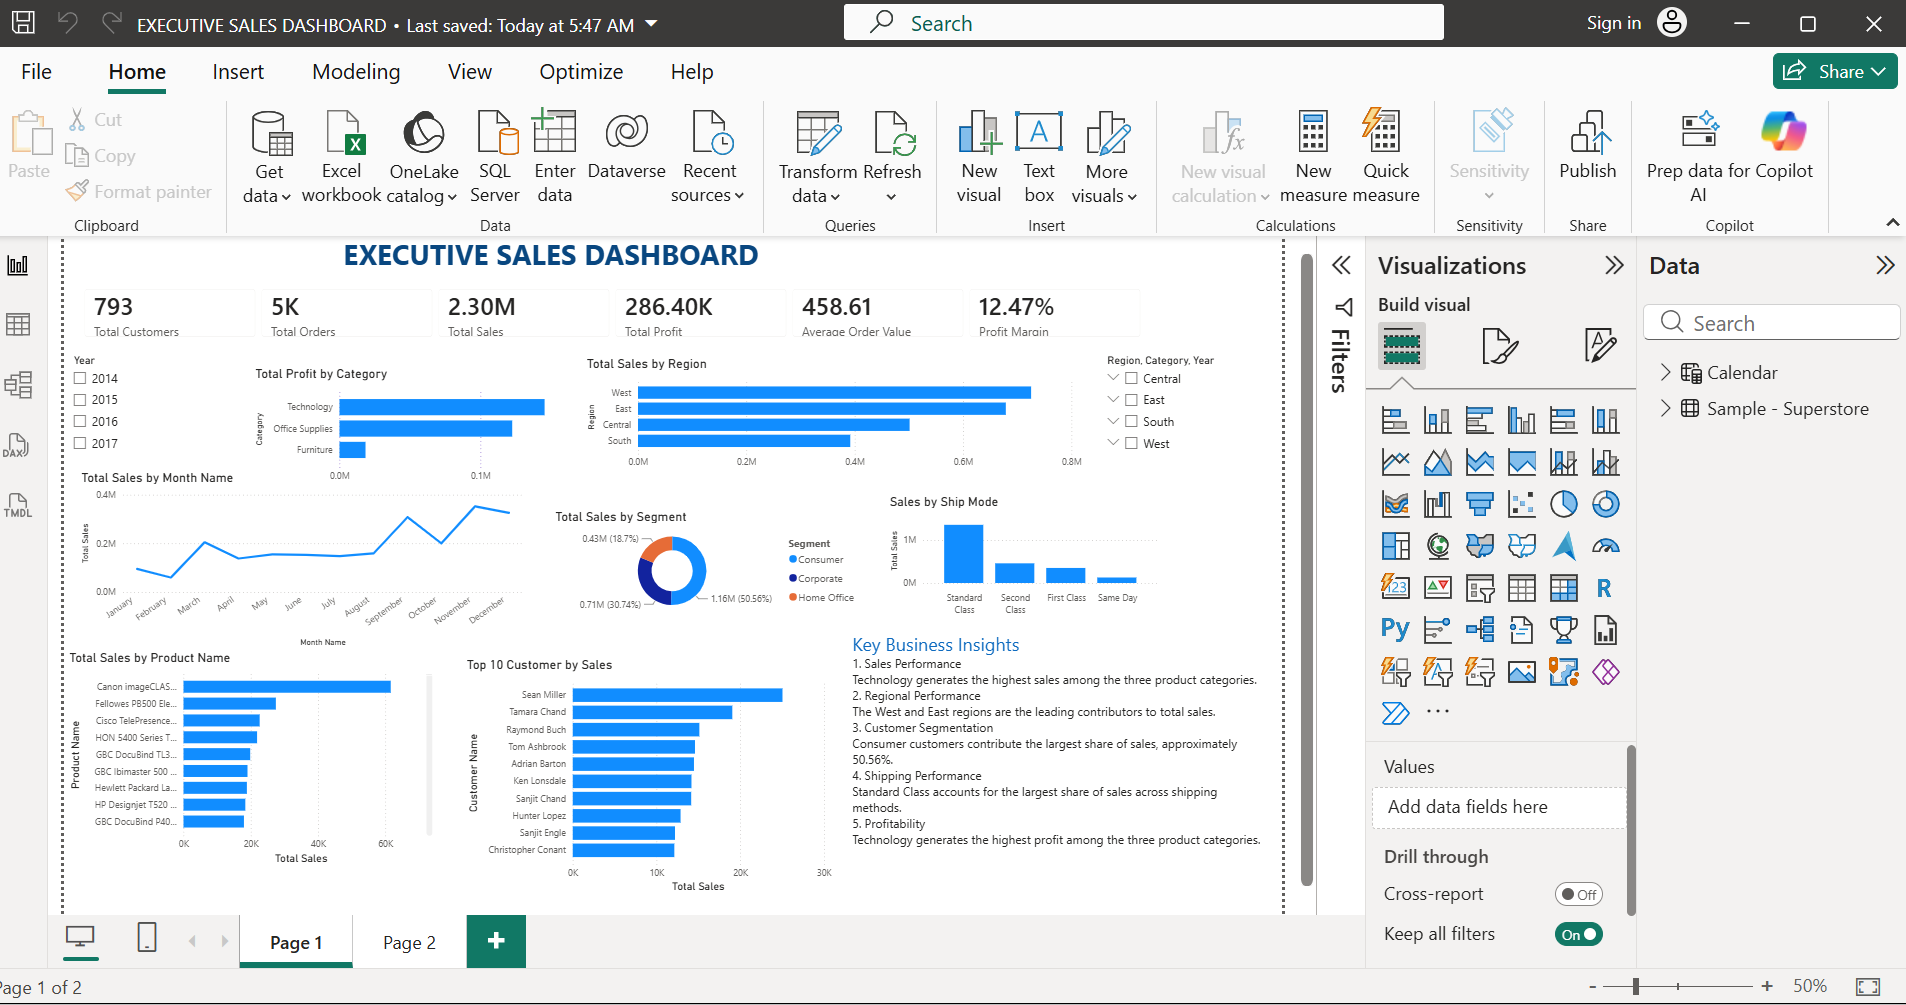

The dashboard page shown, as its layout file describes it:
{"tool":"powerbi","page":{"name":"Page 1","canvas":[1625,953],"ordinal":0},"visuals":[{"type":"slicer","fields":{"Values":["Calendar.Year"]},"box":[0,158,124,150],"z":0},{"type":"cardVisual","fields":{"Data":["Calendar.Total Customers","Calendar.Total Orders","Calendar.Total Sales","Calendar.Total Profit","Calendar.Average Order Value","Calendar.Profit Margin"]},"box":[10,60,1446,98],"z":1000},{"type":"barChart","fields":{"Category":["Sample - Superstore.Region"],"Y":["Calendar.Total Sales"]},"box":[692,166,670,160],"z":2000},{"type":"lineChart","fields":{"Category":["Calendar.Month Name"],"Y":["Calendar.Total Sales"]},"box":[18,318,598,240],"z":3000},{"type":"donutChart","fields":{"Category":["Sample - Superstore.Segment"],"Y":["Calendar.Total Sales"]},"box":[650,370,418,146],"z":4000},{"type":"barChart","fields":{"Category":["Sample - Superstore.Product Name"],"Y":["Calendar.Total Sales"]},"box":[2,558,494,290],"z":5000},{"type":"slicer","fields":{"Values":["Sample - Superstore.Region","Sample - Superstore.Category","Calendar.Year"]},"box":[1378,158,226,178],"z":6000},{"type":"textbox","box":[17.5,0,1262.5,65],"z":7000},{"type":"clusteredBarChart","fields":{"Category":["Sample - Superstore.Category"],"Y":["Calendar.Total Profit"]},"box":[250,180,418,164],"z":8000},{"type":"clusteredBarChart","title":"Top 10 Customer by Sales","fields":{"Category":["Sample - Superstore.Customer Name"],"Y":["Calendar.Total Sales"]},"box":[532,568,496,318],"z":9000},{"type":"clusteredColumnChart","title":"Sales by Ship Mode","fields":{"Category":["Sample - Superstore.Ship Mode"],"Y":["Calendar.Total Sales"]},"box":[1096,350,368,170],"z":10000},{"type":"textbox","box":[1456,8,150,150],"z":11000},{"type":"textbox","box":[1046,528,562,328],"z":12000}]}

Visuals, with their boxes on the page's 1625x953 design canvas (x1, y1, x2, y2). These are canvas units, not pixel positions in the 1906x1005 screenshot, which may show the page scaled, cropped or inside an application window:
slicer - Calendar.Year: bbox=(0, 158, 124, 308)
cardVisual - Calendar.Total Customers x Calendar.Total Orders: bbox=(10, 60, 1456, 158)
barChart - Sample - Superstore.Region x Calendar.Total Sales: bbox=(692, 166, 1362, 326)
lineChart - Calendar.Month Name x Calendar.Total Sales: bbox=(18, 318, 616, 558)
donutChart - Sample - Superstore.Segment x Calendar.Total Sales: bbox=(650, 370, 1068, 516)
barChart - Sample - Superstore.Product Name x Calendar.Total Sales: bbox=(2, 558, 496, 848)
slicer - Sample - Superstore.Region x Sample - Superstore.Category: bbox=(1378, 158, 1604, 336)
textbox: bbox=(18, 0, 1280, 65)
clusteredBarChart - Sample - Superstore.Category x Calendar.Total Profit: bbox=(250, 180, 668, 344)
"Top 10 Customer by Sales" clusteredBarChart: bbox=(532, 568, 1028, 886)
"Sales by Ship Mode" clusteredColumnChart: bbox=(1096, 350, 1464, 520)
textbox: bbox=(1456, 8, 1606, 158)
textbox: bbox=(1046, 528, 1608, 856)
